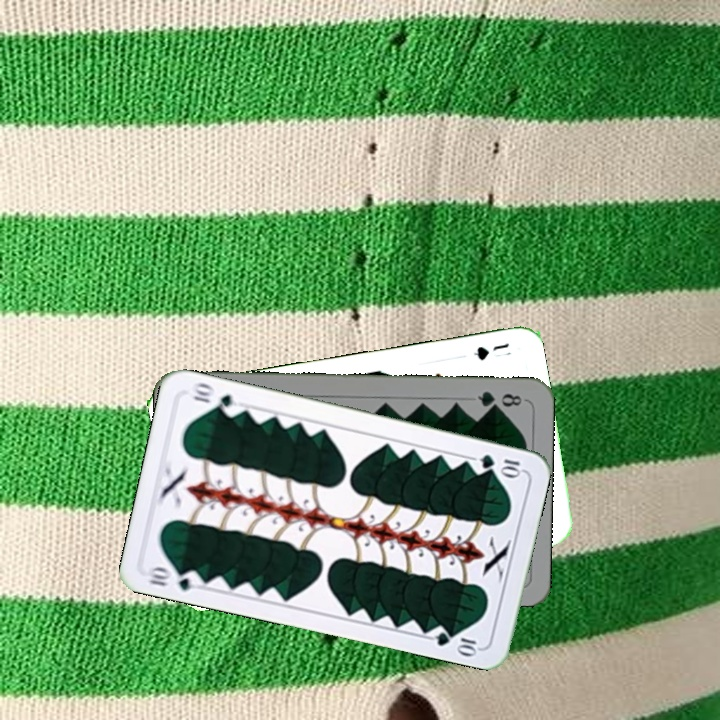G10: (143, 562, 204, 593), (476, 450, 525, 478)
G8: (474, 387, 528, 411)
GU: (469, 339, 514, 363)
